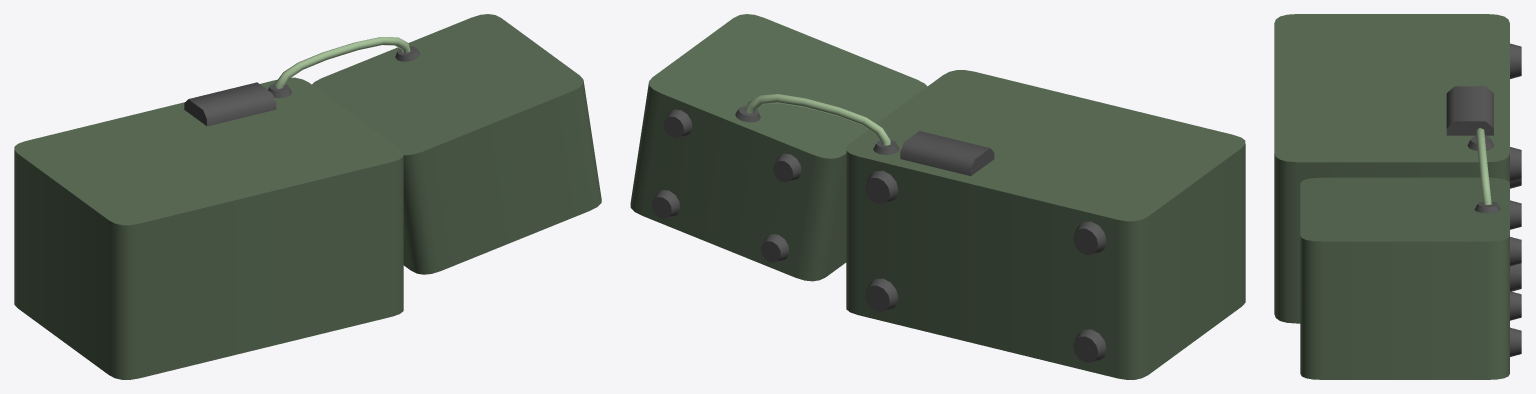
File: radio.glb
3 views of the same model, side by side, from view 1: azimuth 30°, elevation 25°; view 2: azimuth 150°, elevation 25°; view 3: azimuth 270°, elevation 25° (orthographic). The views are drawn at different scales.
Parts seen in each view (by area): view 1: radio_00; view 2: radio_00; view 3: radio_00.
Boxes of the visible parts, left/top/right/bottom form: radio_00: left=14, top=14, right=601, bottom=379; radio_00: left=630, top=14, right=1245, bottom=379; radio_00: left=1274, top=14, right=1521, bottom=379.
Bounding box in the file's own units: 0.3404 × 0.1256 × 0.1395.
